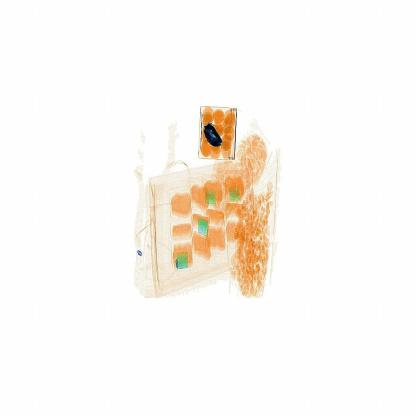scissors: (198, 119, 227, 153)
